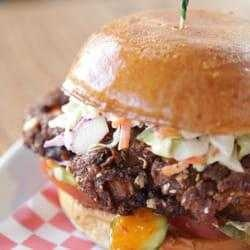hamburger: (39, 1, 250, 247)
